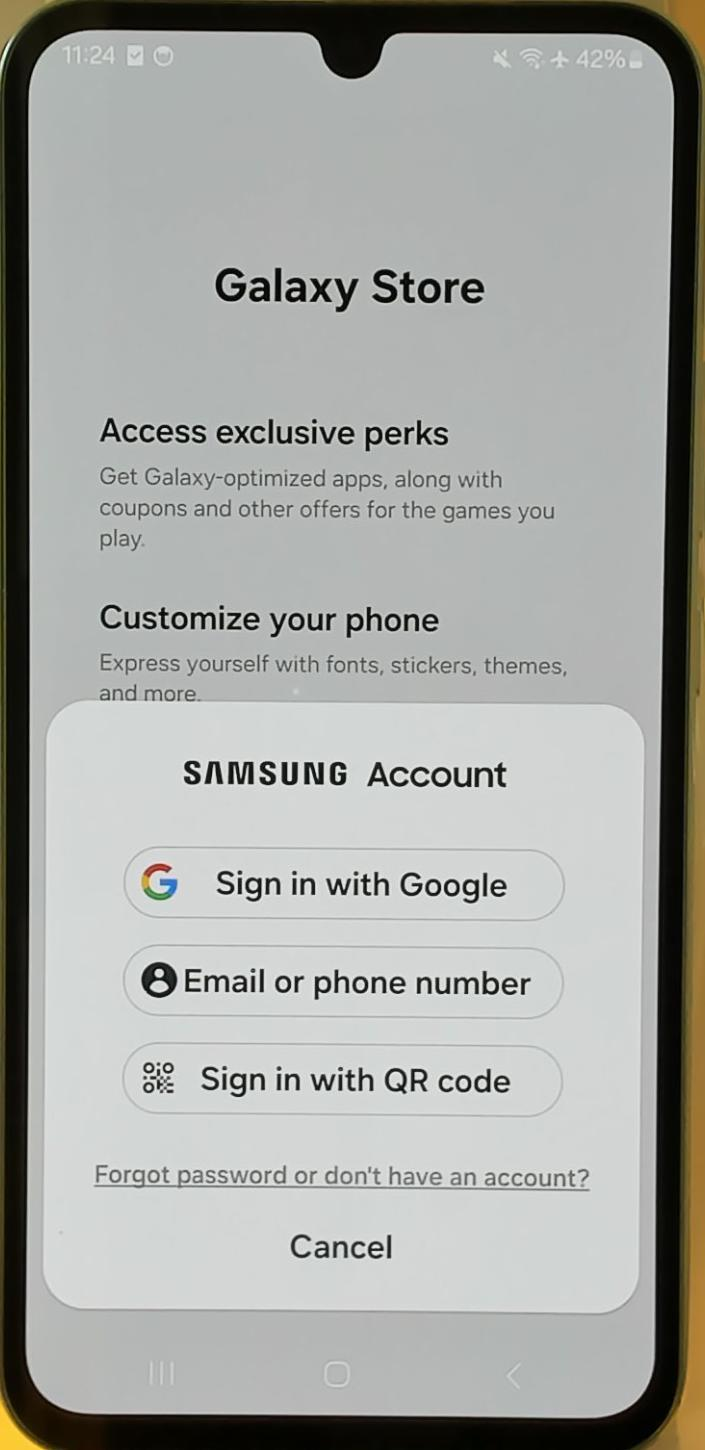CommunBotton: (117, 1037, 570, 1122), (119, 842, 567, 925), (119, 939, 566, 1021), (83, 1155, 595, 1196), (282, 1221, 406, 1266), (142, 1351, 180, 1394), (498, 1349, 533, 1395), (318, 1355, 355, 1393)
